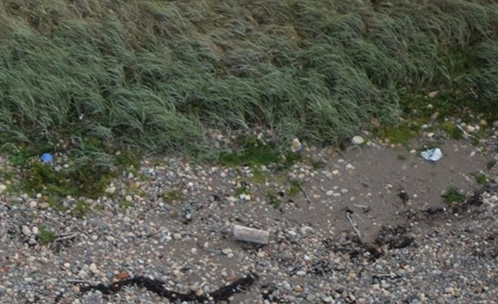white_in_green: (217, 200, 288, 268), (406, 130, 456, 175), (24, 135, 67, 179)
